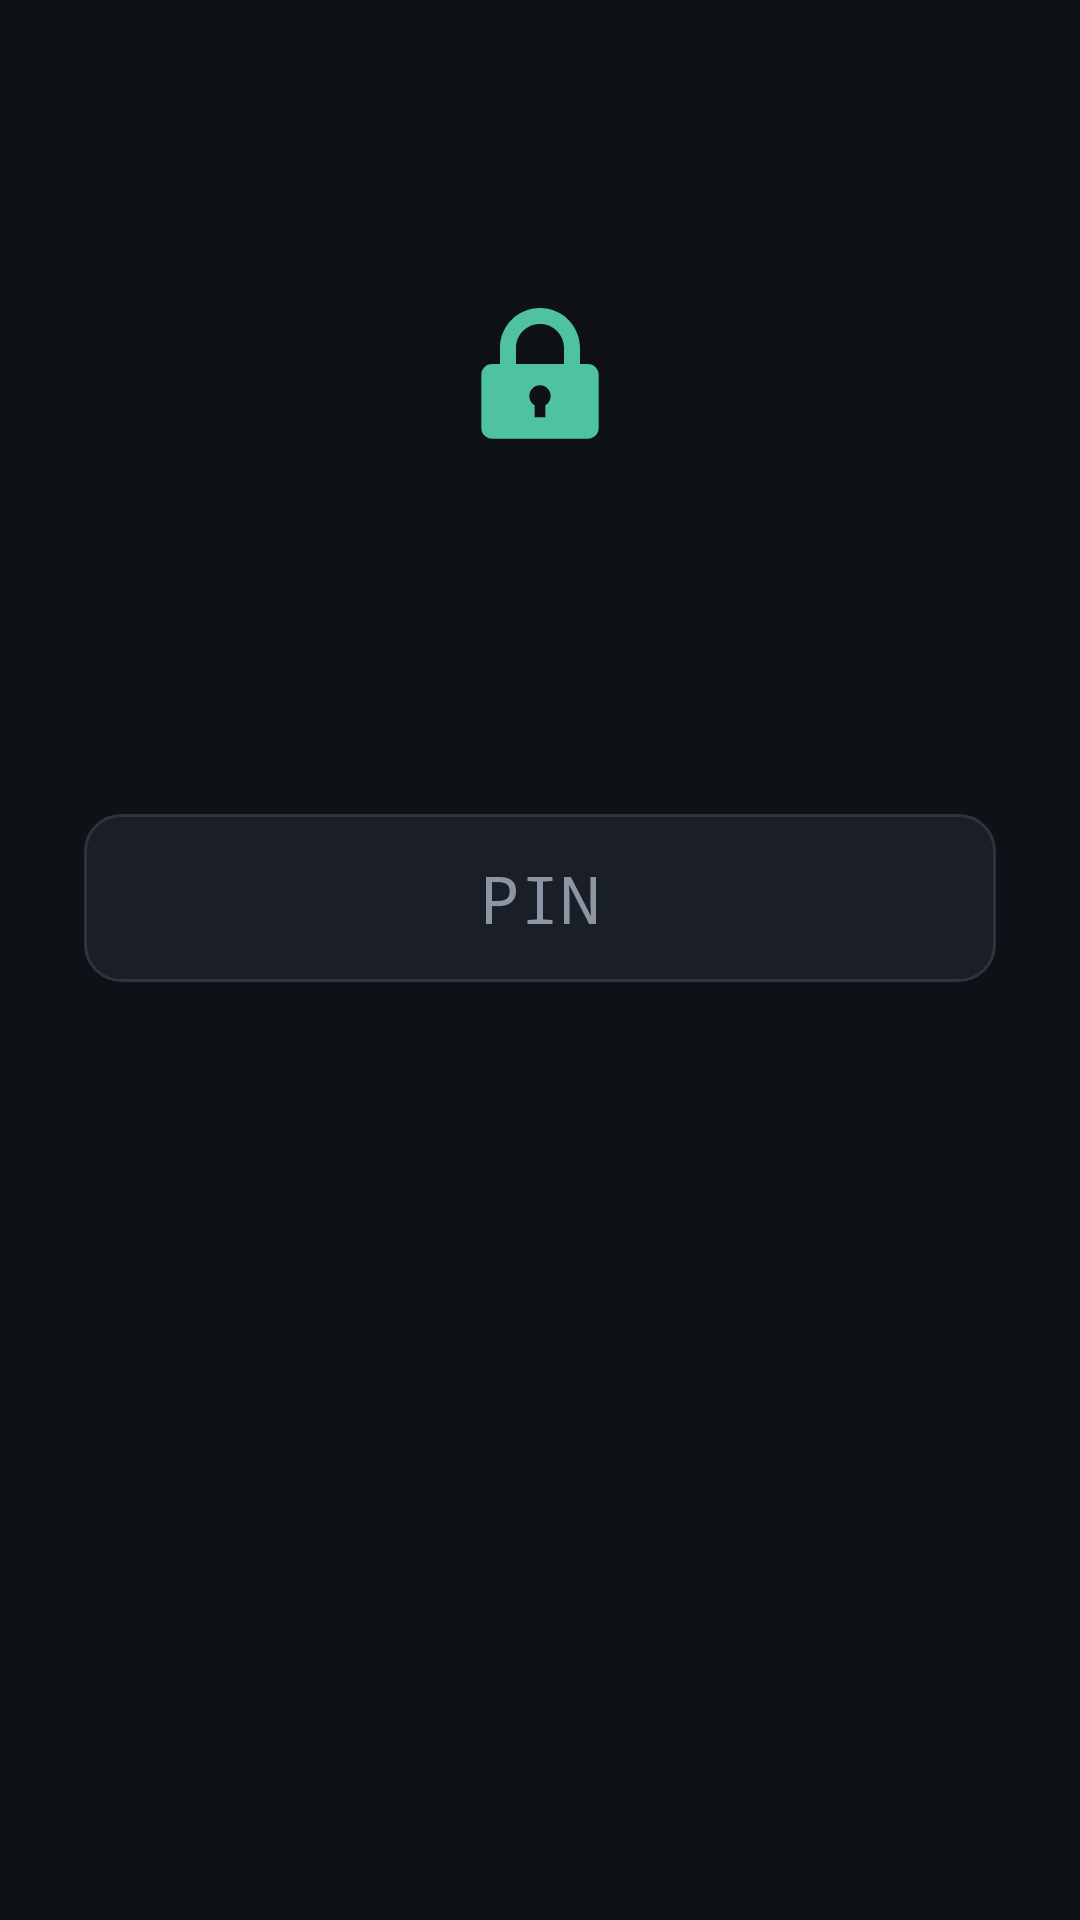

Named icons in this screenshot (1080px x 1920px) and their centers, point (x, y):
lock: point (540, 373)
